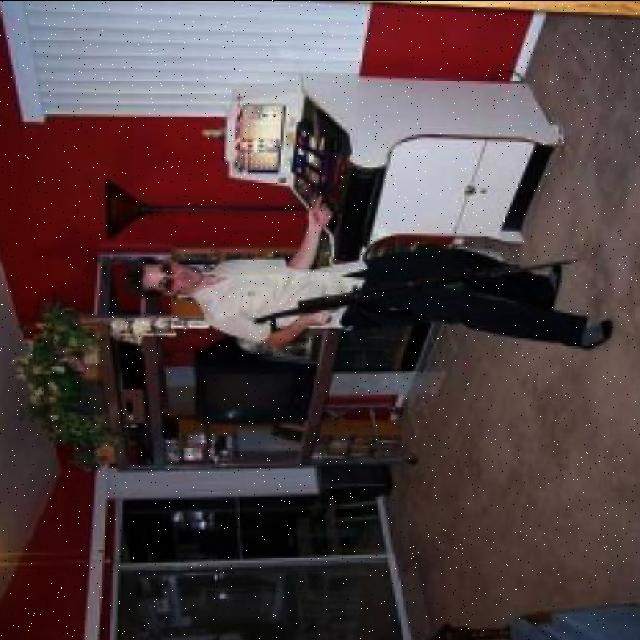Rifle: (252, 255, 583, 344)
